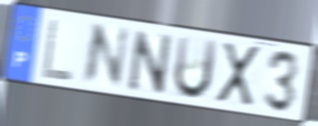3: (264, 49, 302, 114)
L: (39, 16, 75, 84)
N: (79, 22, 132, 88), (126, 27, 174, 96)
U: (171, 33, 220, 101)
X: (215, 40, 262, 109)
